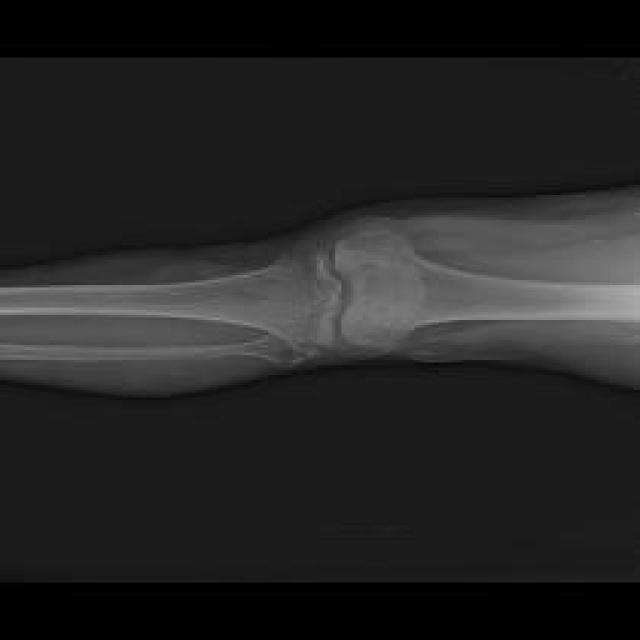normal: (336, 230, 640, 350), (3, 241, 338, 349), (0, 337, 315, 363)
